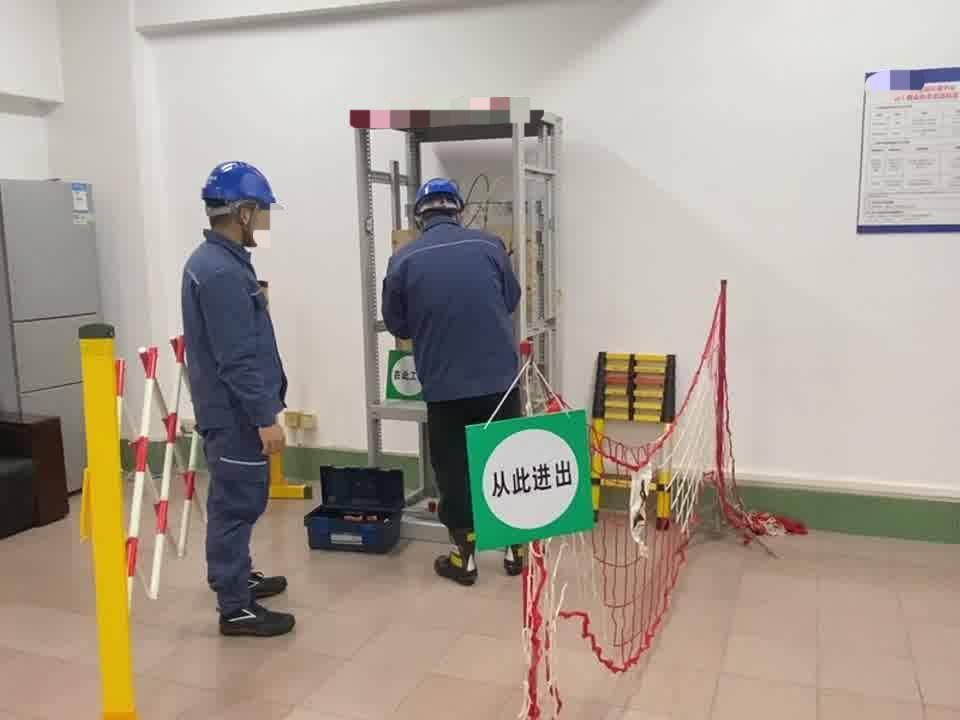halt: (202, 162, 284, 250), (415, 182, 469, 223)
inear: (230, 202, 261, 243)
